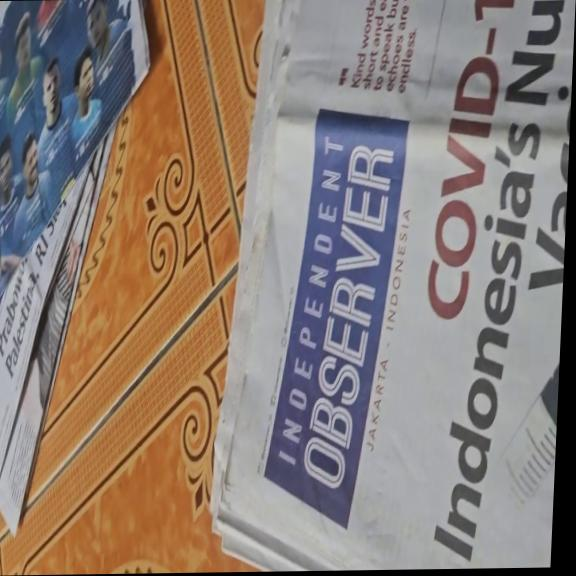Kertas: (208, 1, 568, 573), (0, 164, 103, 536)
